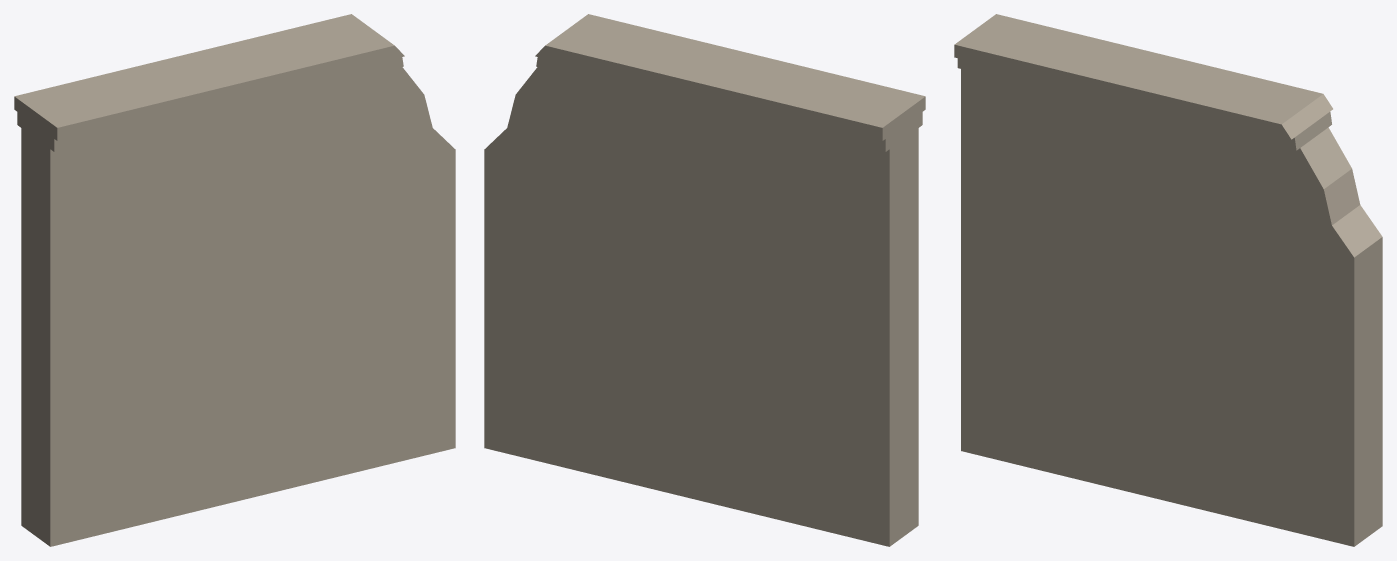
File: Village_Wall_Plaster_2m_Roof_C.fbx
3 renders of one model, left to right at view 1: azimuth 30°, elevation 25°; view 2: azimuth 150°, elevation 25°; view 3: azimuth 330°, elevation 25°, orthographic. The views are drawn at different scales.
Parts seen in each view (by area): view 1: Village_Wall_2m_Roof_A.140; view 2: Village_Wall_2m_Roof_A.140; view 3: Village_Wall_2m_Roof_A.140.
Part boxes in pixels (x1,y1,x2,y2): Village_Wall_2m_Roof_A.140: [14, 14, 455, 546]; Village_Wall_2m_Roof_A.140: [484, 14, 925, 546]; Village_Wall_2m_Roof_A.140: [954, 14, 1382, 546].
Bounding box in the file's own units: 200 × 200 × 36.9.
